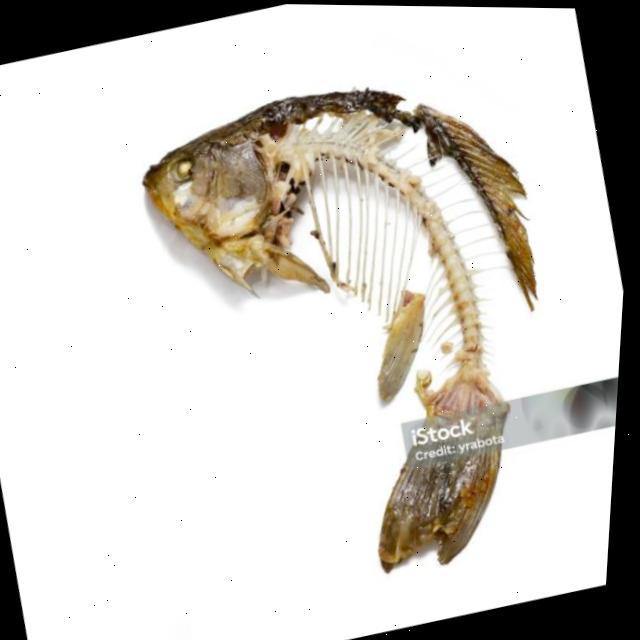Wet Waste: (124, 34, 599, 570)
